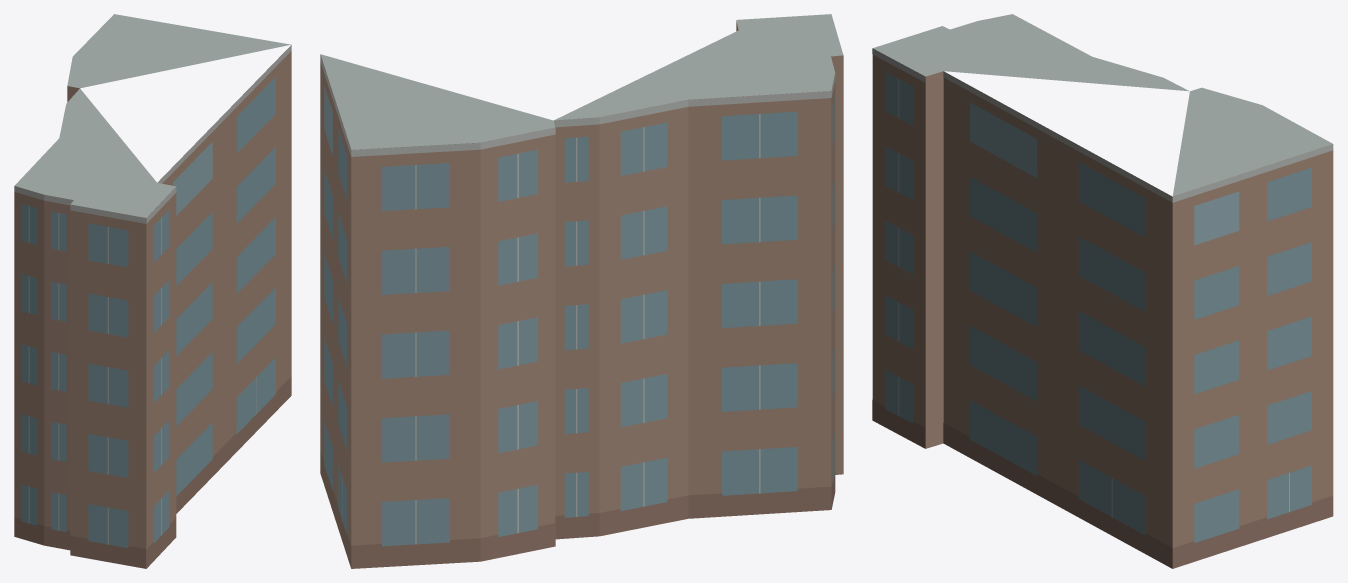
Rendered from survey-upis-32995967.glb.
3 views of the same model, side by side, from view 1: azimuth 30°, elevation 25°; view 2: azimuth 150°, elevation 25°; view 3: azimuth 270°, elevation 25° (orthographic). The views are drawn at different scales.
Visible parts, largest first — view 1: survey-upis-32995967.tmp; view 2: survey-upis-32995967.tmp; view 3: survey-upis-32995967.tmp.
Boxes of the visible parts, left/top/right/bottom form: survey-upis-32995967.tmp: left=14, top=14, right=291, bottom=568; survey-upis-32995967.tmp: left=320, top=14, right=843, bottom=568; survey-upis-32995967.tmp: left=872, top=14, right=1333, bottom=568.
Bounding box in the file's own units: 15.26 × 14.5 × 16.27.
